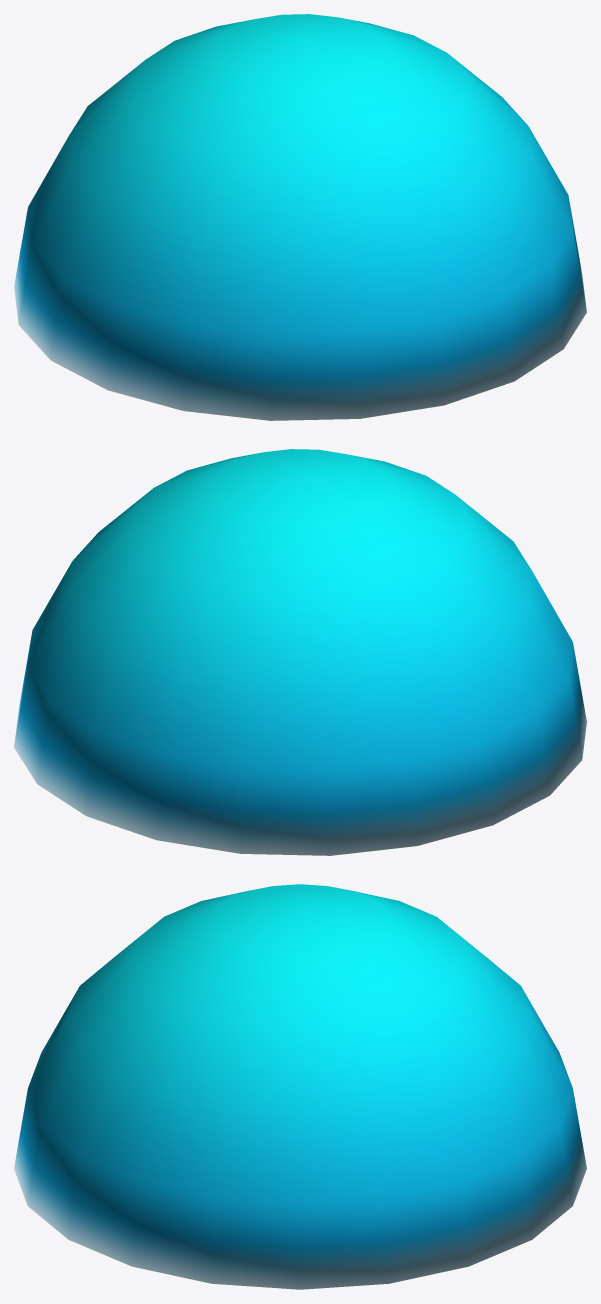
File: Island.fbx
3 renders of one model, top to bottom at view 1: azimuth 30°, elevation 25°; view 2: azimuth 150°, elevation 25°; view 3: azimuth 270°, elevation 25°, orthographic.
Parts seen in each view (by area): view 1: island; view 2: island; view 3: island.
Boxes of the visible parts, x1=… form: island: x1=14, y1=14, x2=586, y2=420; island: x1=14, y1=449, x2=586, y2=855; island: x1=14, y1=884, x2=586, y2=1289.
Size of the model in its own units: 4463 by 2233 by 4462.
